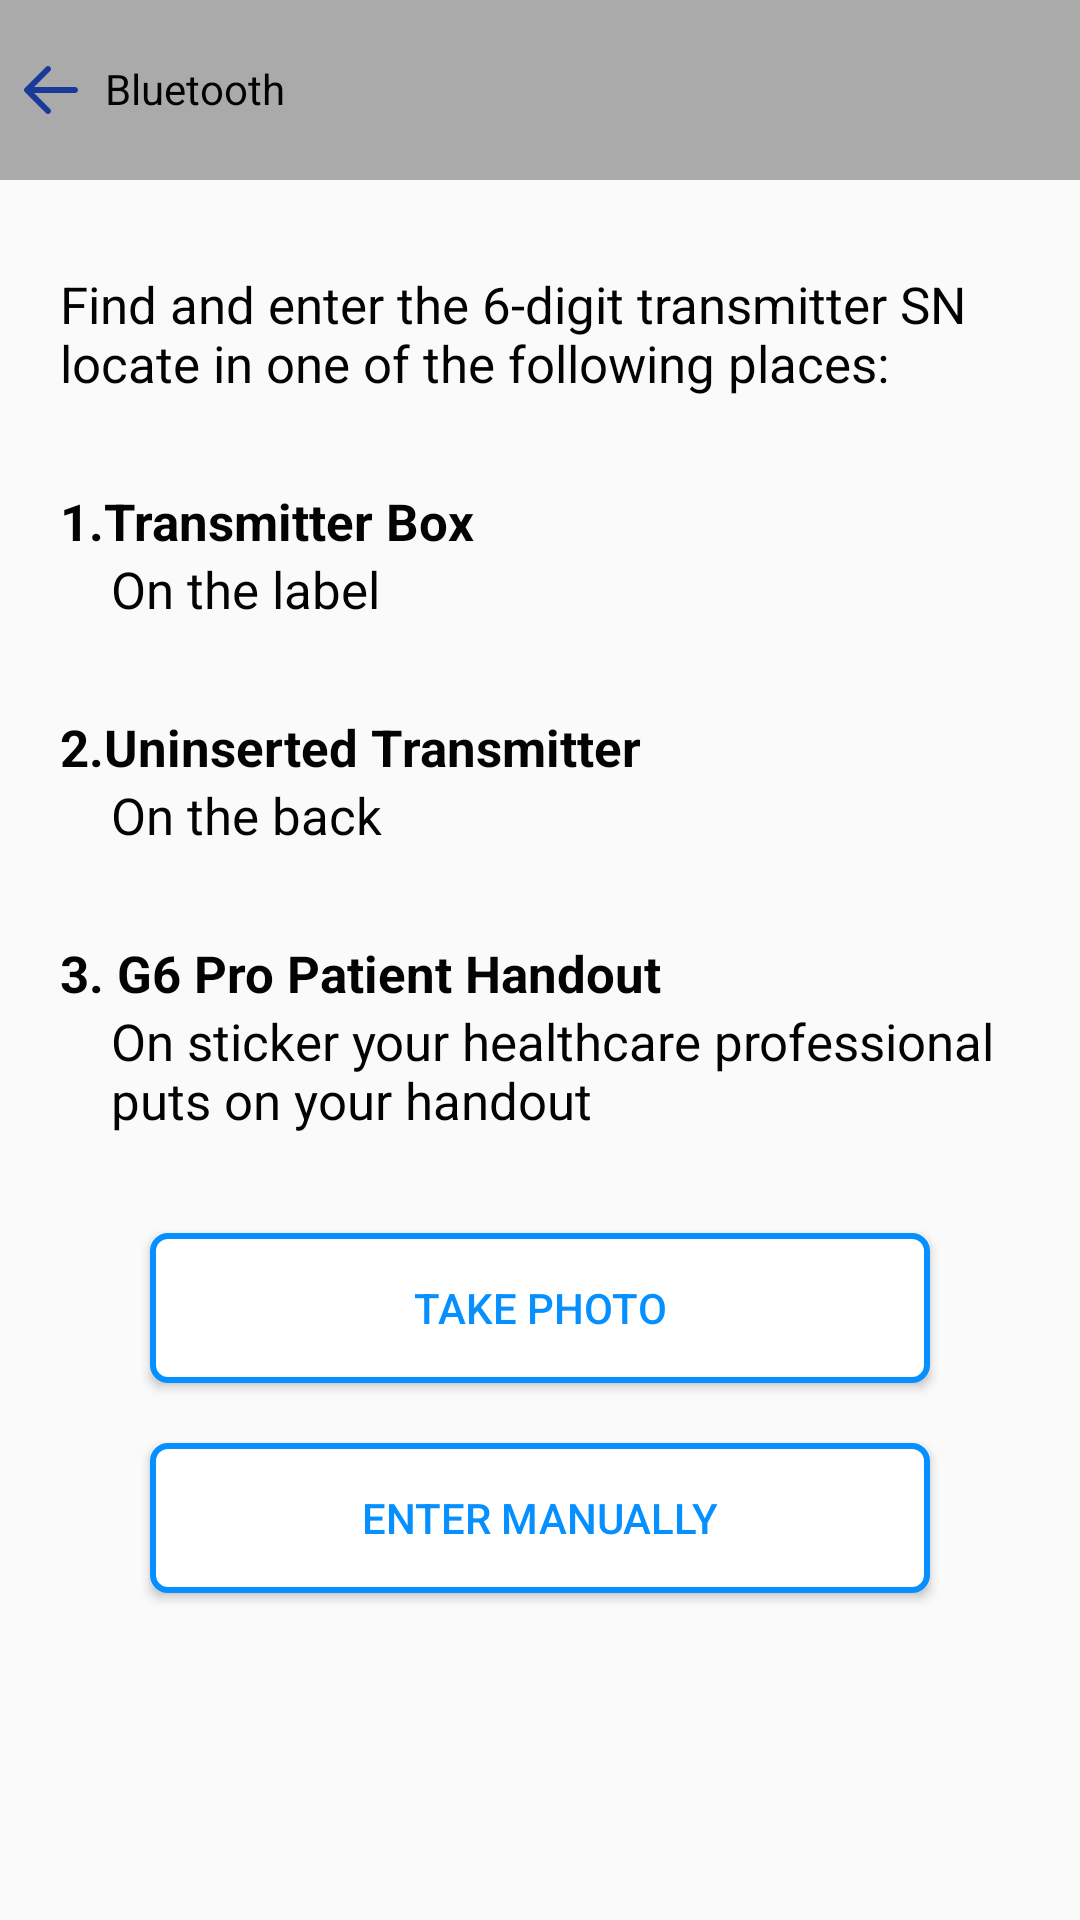

Icon click points for this 1080w x 1920h phone screenshot, format (x,y):
left: (51,90)
